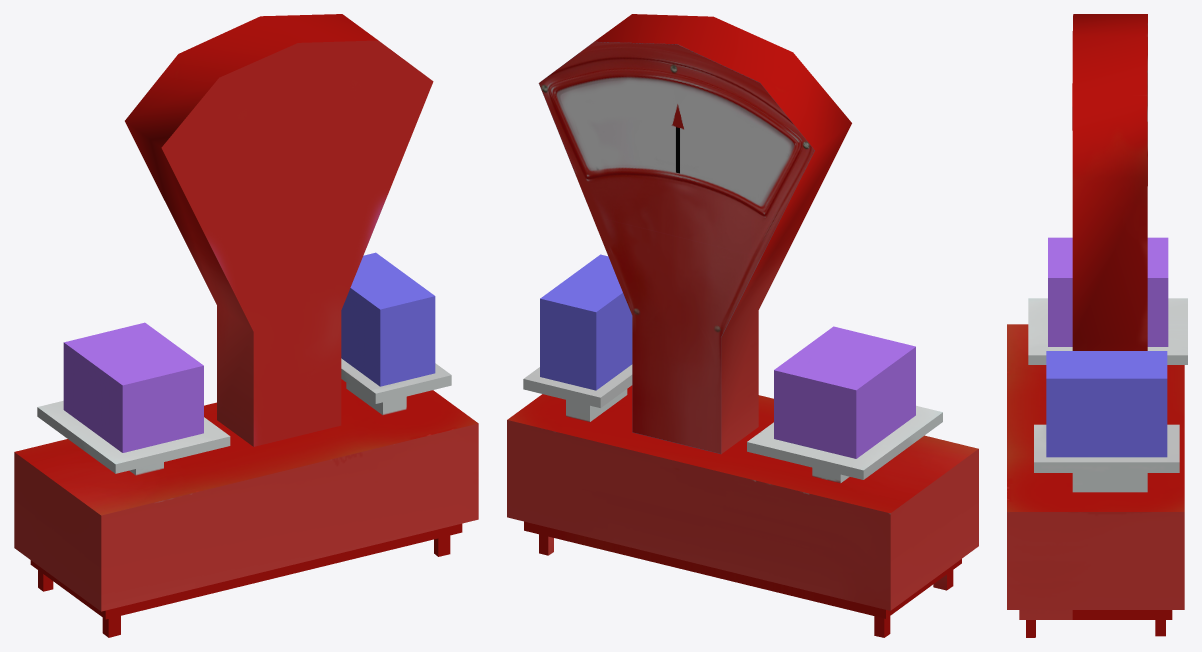
The model's file is balance.fbx.
The picture shows the model from 3 angles, left to right: view 1: azimuth 30°, elevation 25°; view 2: azimuth 150°, elevation 25°; view 3: azimuth 270°, elevation 25°; orthographic projection. The views are drawn at different scales.
Parts seen in each view (by area): view 1: Cube; view 2: Cube; view 3: Cube.
Boxes of the visible parts, x1=… form: Cube: x1=14, y1=14, x2=478, y2=637; Cube: x1=507, y1=14, x2=978, y2=637; Cube: x1=1007, y1=14, x2=1187, y2=637.
Size of the model in its own units: 292 by 389 by 119.
1 material, 1 textured.
